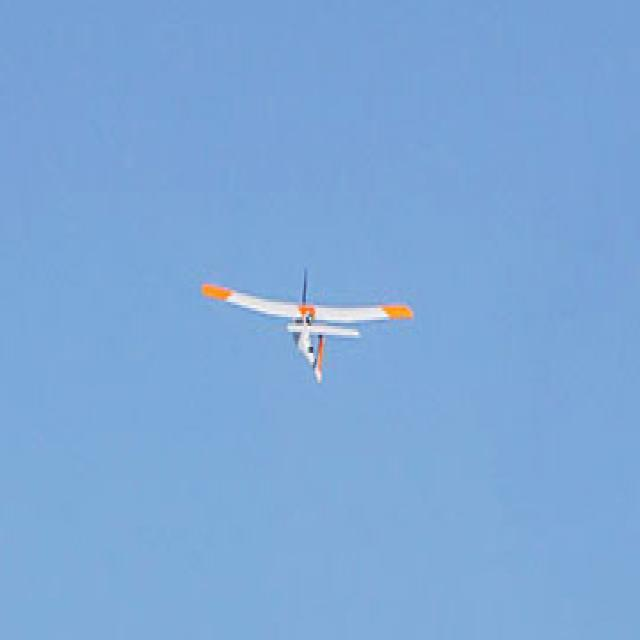iha: (198, 295, 422, 348)
